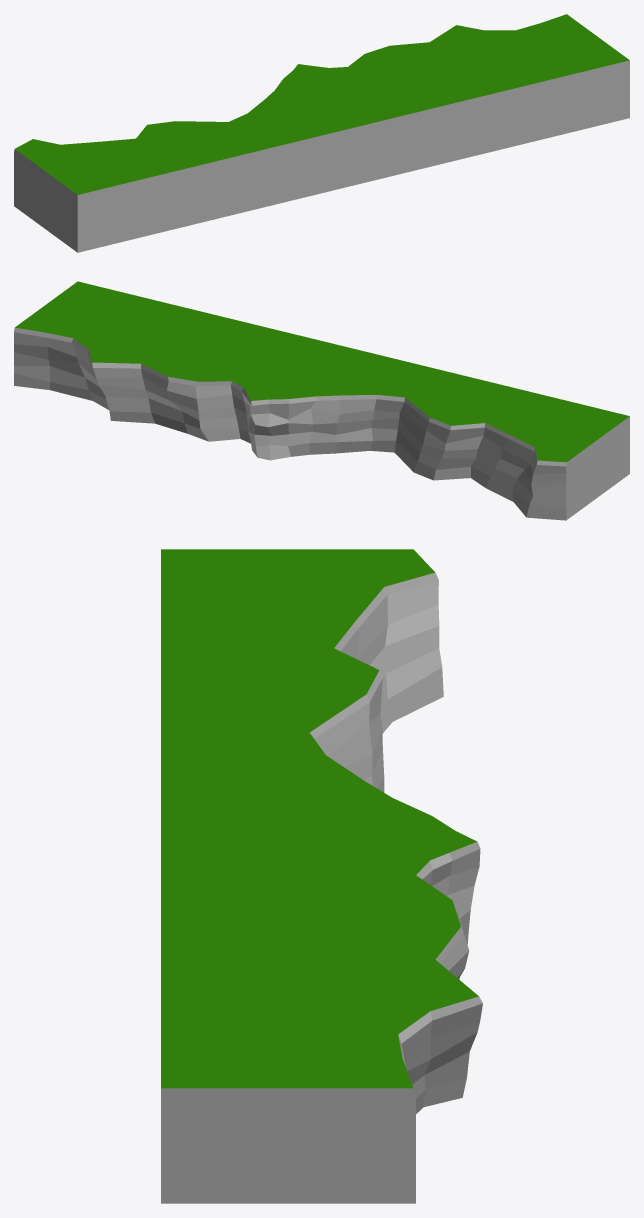
The model's file is Cliff_6.fbx.
3 renders of one model, top to bottom at view 1: azimuth 30°, elevation 25°; view 2: azimuth 150°, elevation 25°; view 3: azimuth 270°, elevation 25°, orthographic. The views are drawn at different scales.
Visible parts, largest first — view 1: Plane; view 2: Plane; view 3: Plane.
Part boxes in pixels (bbox=[...]): Plane: bbox=[14, 14, 629, 252]; Plane: bbox=[14, 281, 629, 520]; Plane: bbox=[161, 549, 482, 1203].
Size of the model in its own units: 100 by 10 by 25.25.
